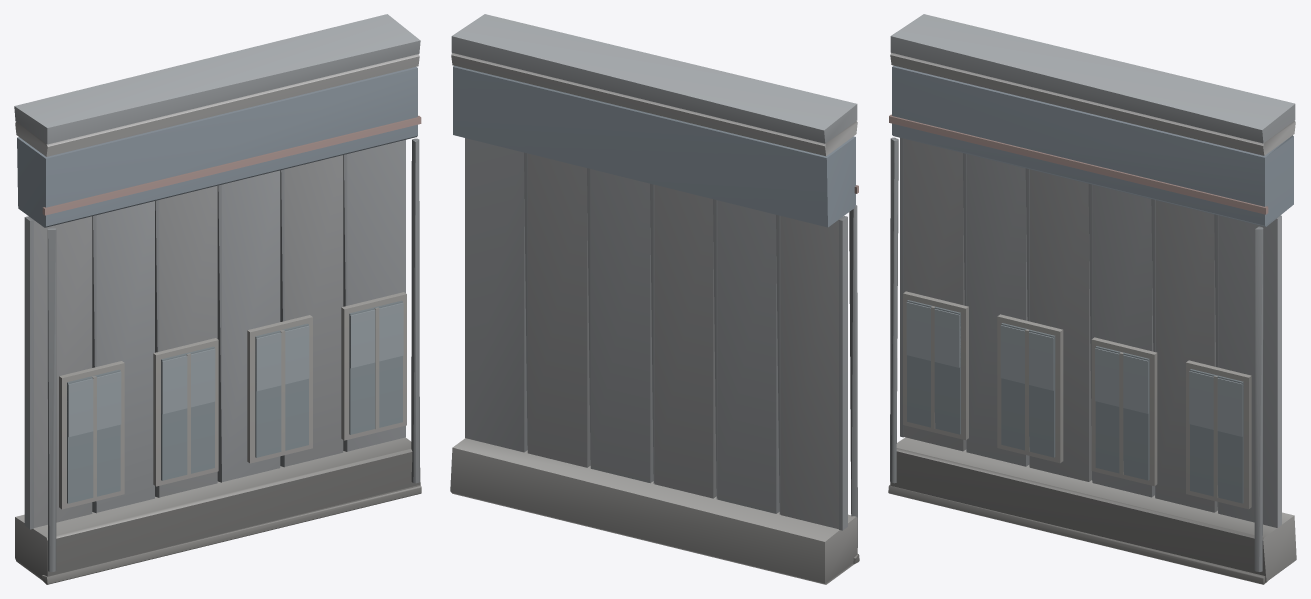
File: sback_wall.lod1.glb
The picture shows the model from 3 angles, left to right: view 1: azimuth 30°, elevation 25°; view 2: azimuth 150°, elevation 25°; view 3: azimuth 330°, elevation 25°; orthographic projection.
Bounding box in the file's own units: 6.03 × 6.95 × 0.995.
